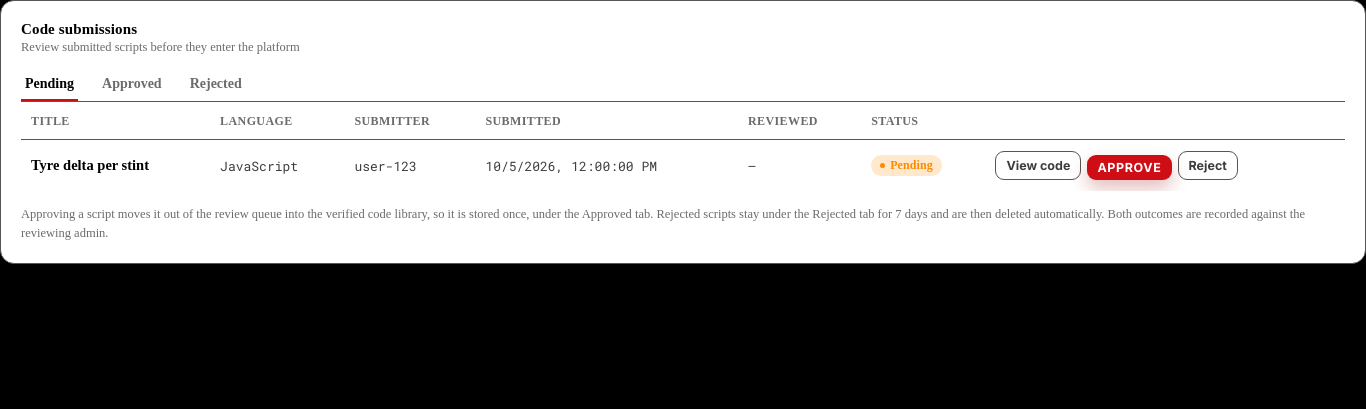
Test: CodeSubmissionsPanel › loads and shows the submitted code on demand
The image size is (1366, 409).
Click the button "View code". click: point(1038, 166)
box: [995, 151, 1081, 180]
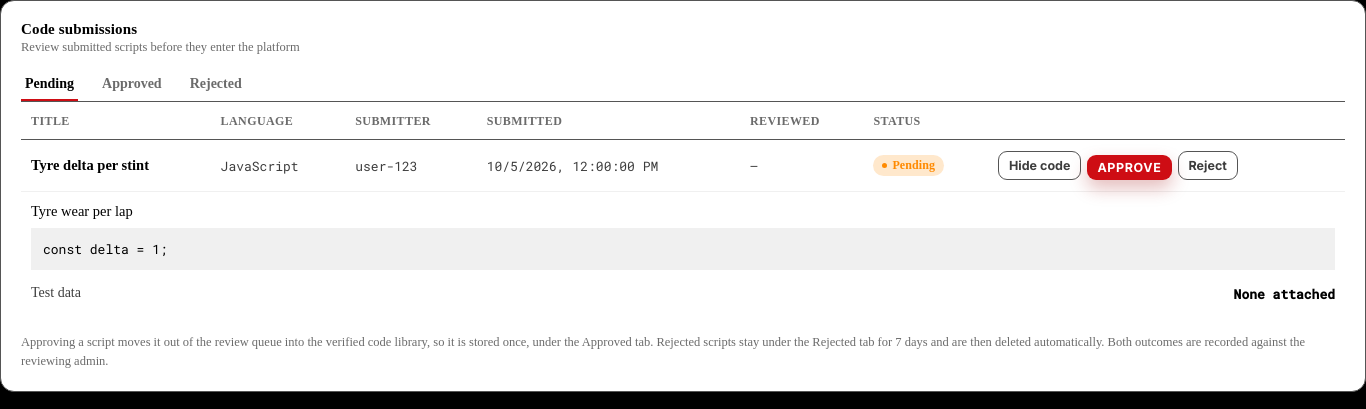
Expected: the text "const delta = 1;" is shown, [31, 228, 1335, 270]
Expected: the text "Tyre wear per lap" is shown, [31, 203, 133, 219]
Click the button "Hide code". click: point(1040, 166)
box: [998, 151, 1081, 180]
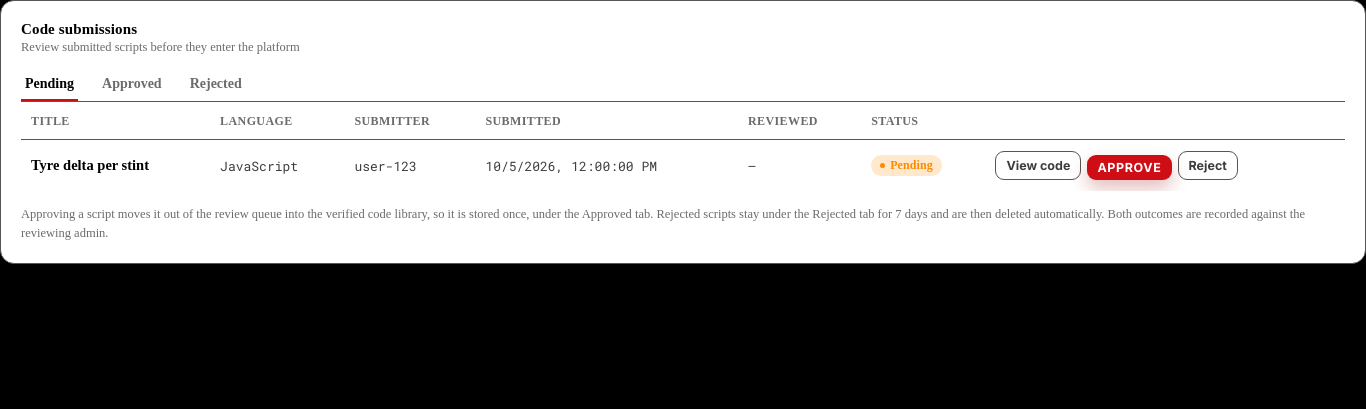
Expected: the text "const delta = 1;" is gone
